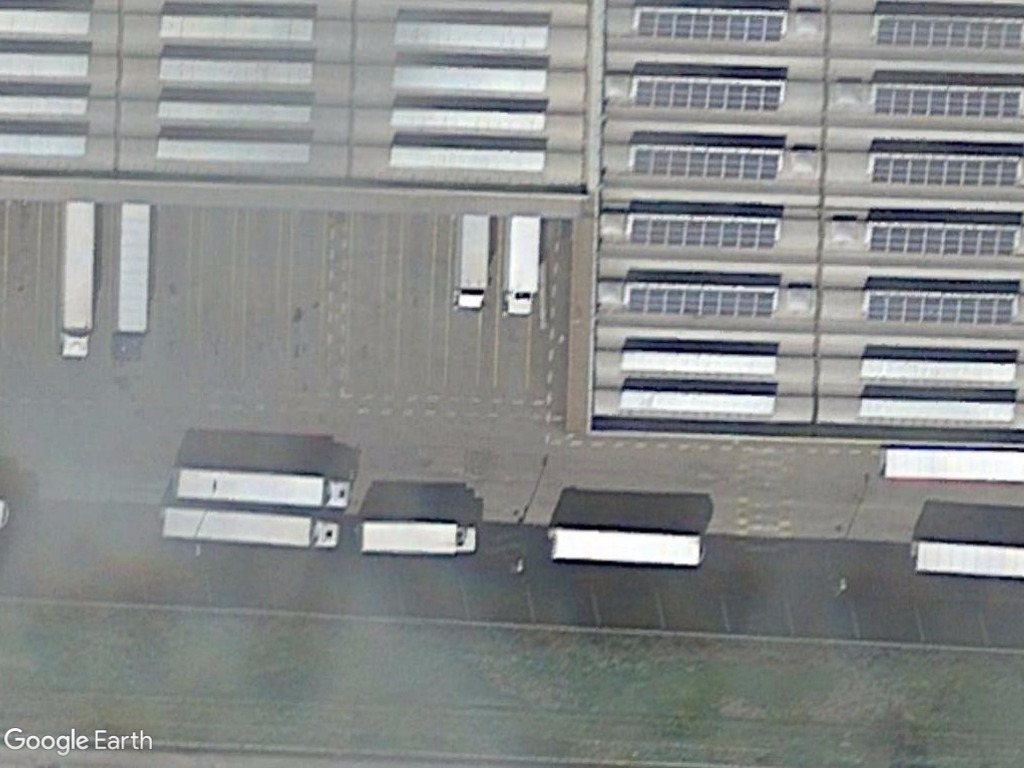longvehicle: (159, 502, 344, 553), (544, 522, 708, 574), (168, 465, 356, 510), (111, 200, 157, 366), (55, 198, 100, 365)
truck: (351, 514, 481, 558), (498, 212, 546, 320), (453, 211, 493, 312)
